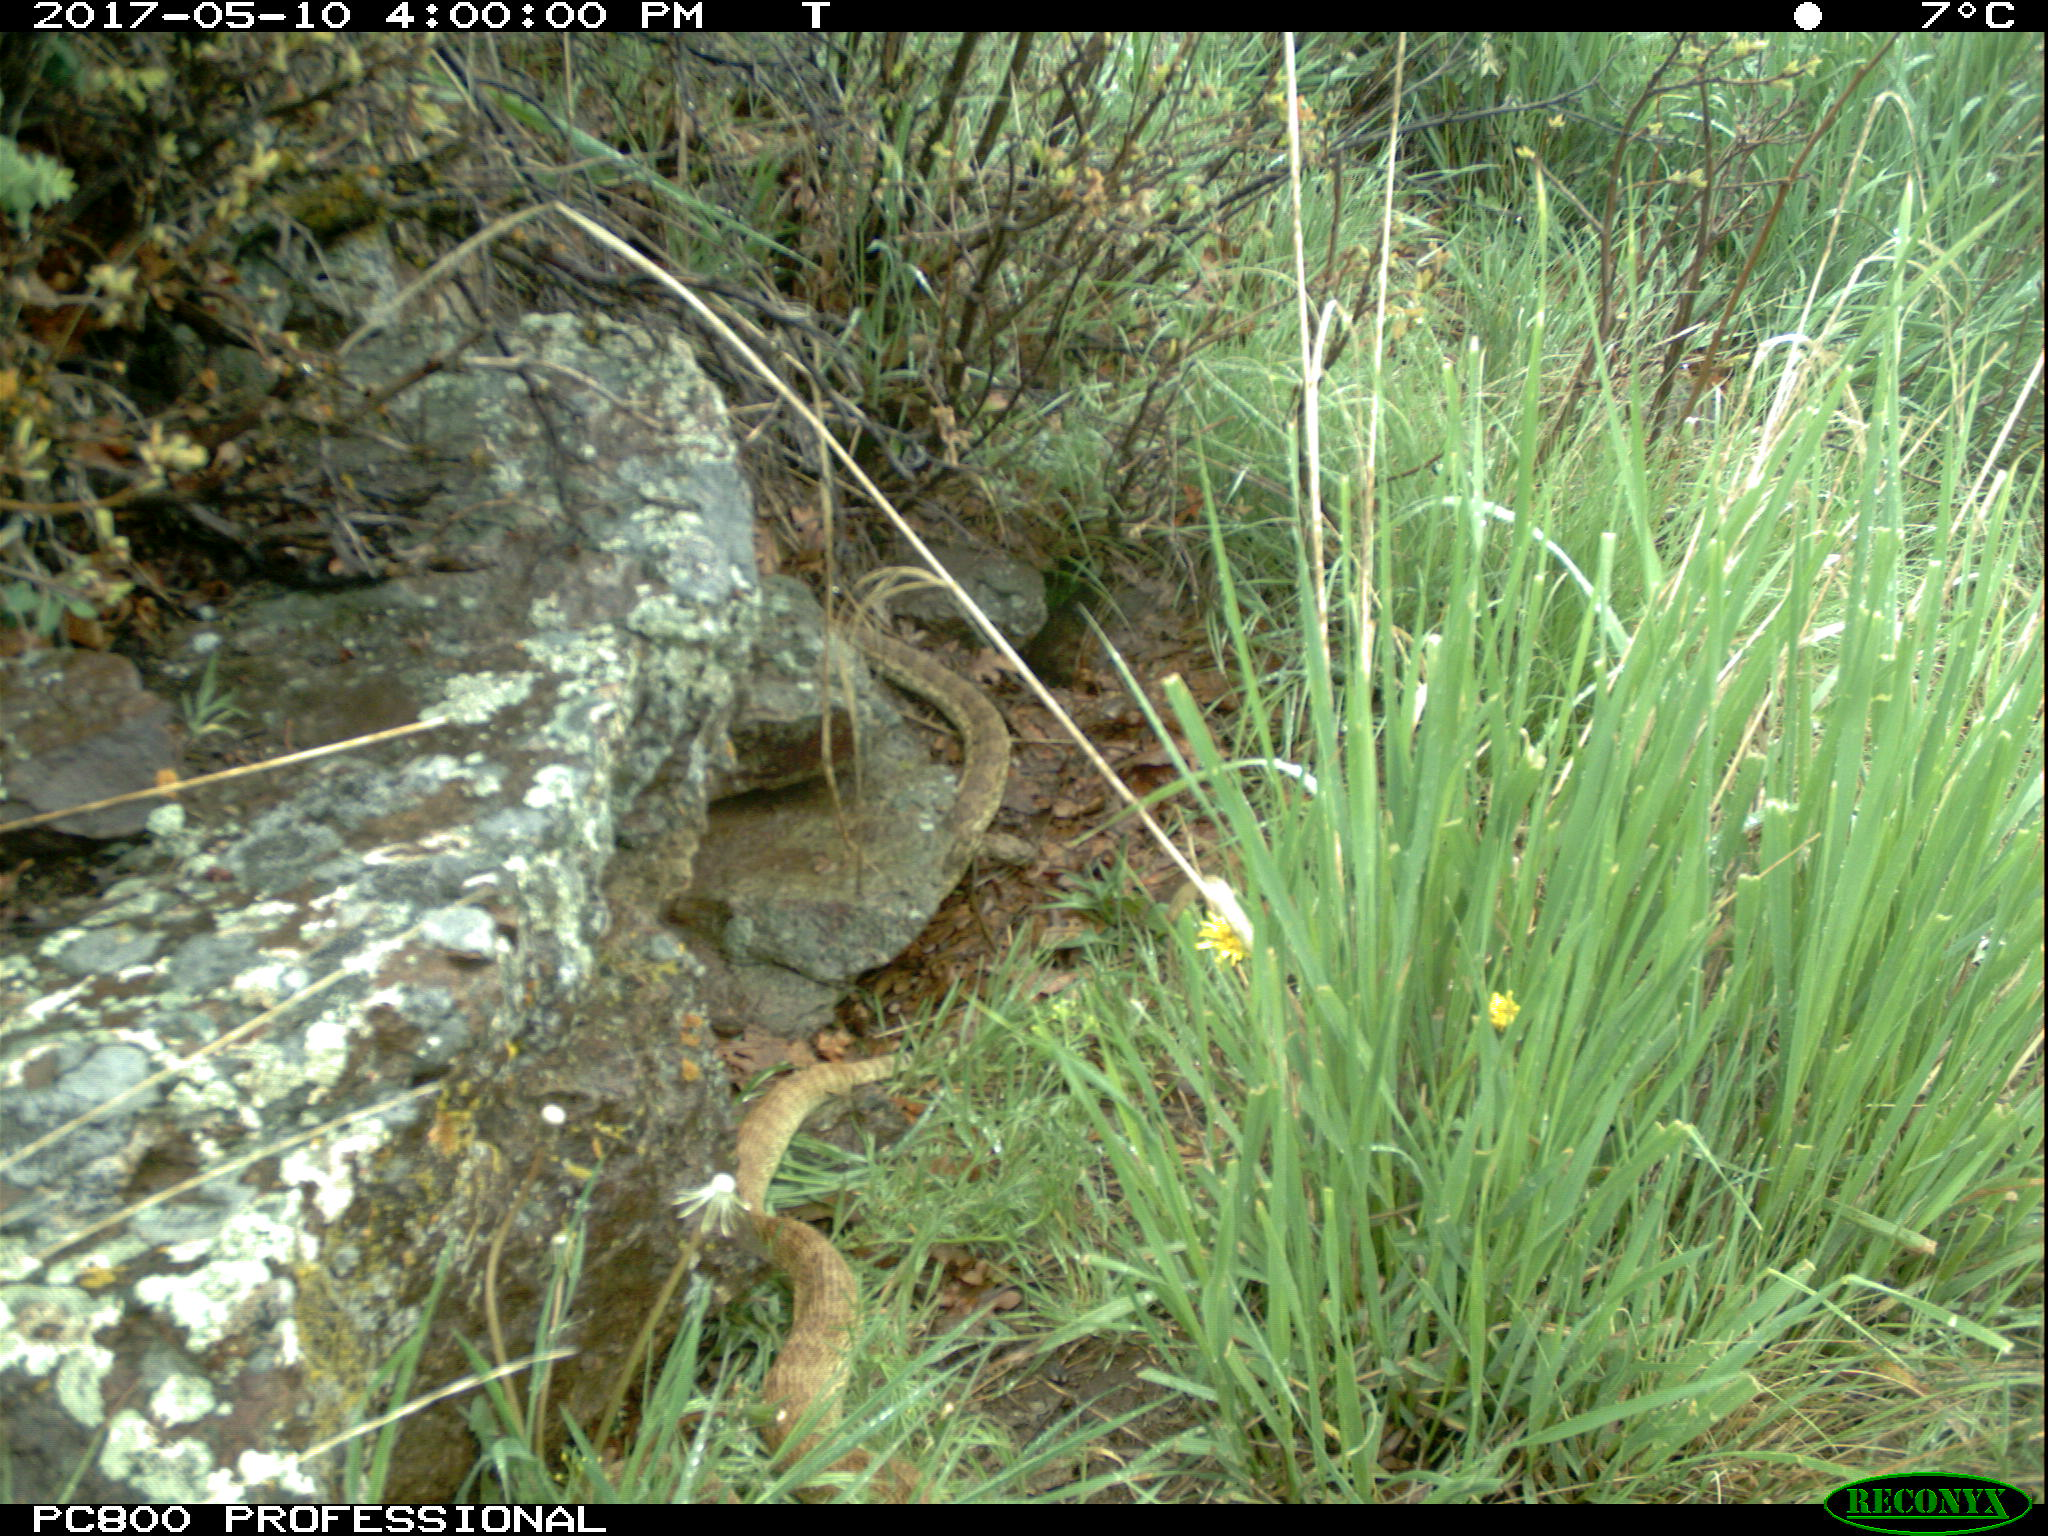snake: (726, 1042, 932, 1504), (845, 623, 1014, 863)
